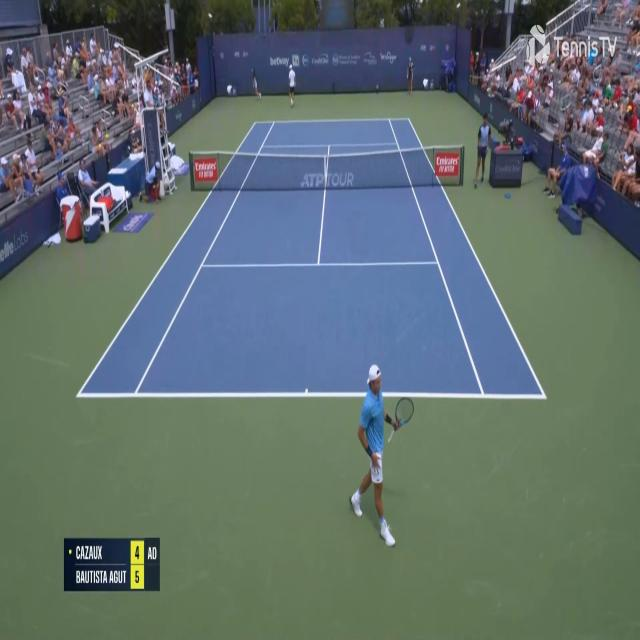tennis-player: (344, 360, 416, 554), (287, 61, 297, 108)
